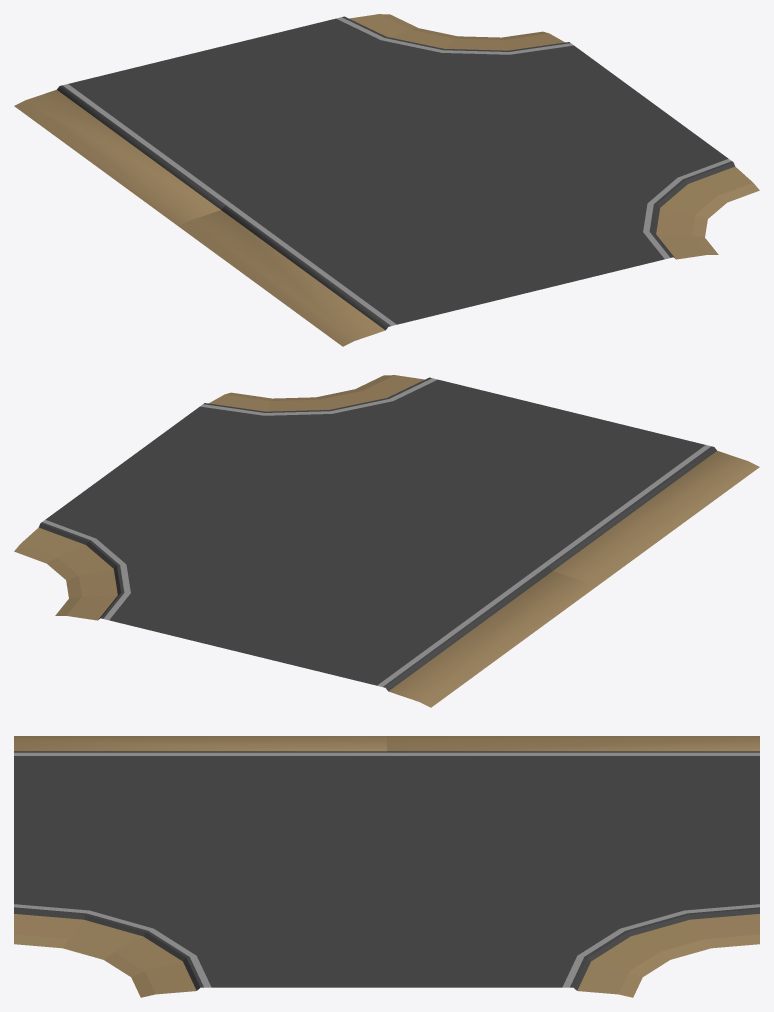
File: SM_Envr_Road_Country_Intersection_01.fbx
The picture shows the model from 3 angles, top to bottom: view 1: azimuth 30°, elevation 25°; view 2: azimuth 150°, elevation 25°; view 3: azimuth 270°, elevation 25°; orthographic projection. The views are drawn at different scales.
Parts seen in each view (by area): view 1: SM_Envr_Road_Country_Intersection_01; view 2: SM_Envr_Road_Country_Intersection_01; view 3: SM_Envr_Road_Country_Intersection_01.
Boxes of the visible parts, <box> form: SM_Envr_Road_Country_Intersection_01: <box>14,14,759,346</box>; SM_Envr_Road_Country_Intersection_01: <box>14,375,759,707</box>; SM_Envr_Road_Country_Intersection_01: <box>14,736,759,997</box>.
Size of the model in its own units: 1660 by 30 by 2000.
